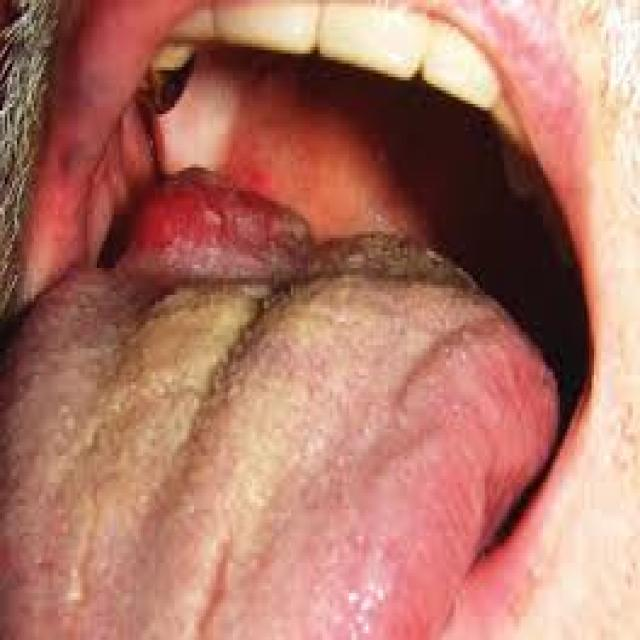discolored_patch: (88, 212, 499, 578)
